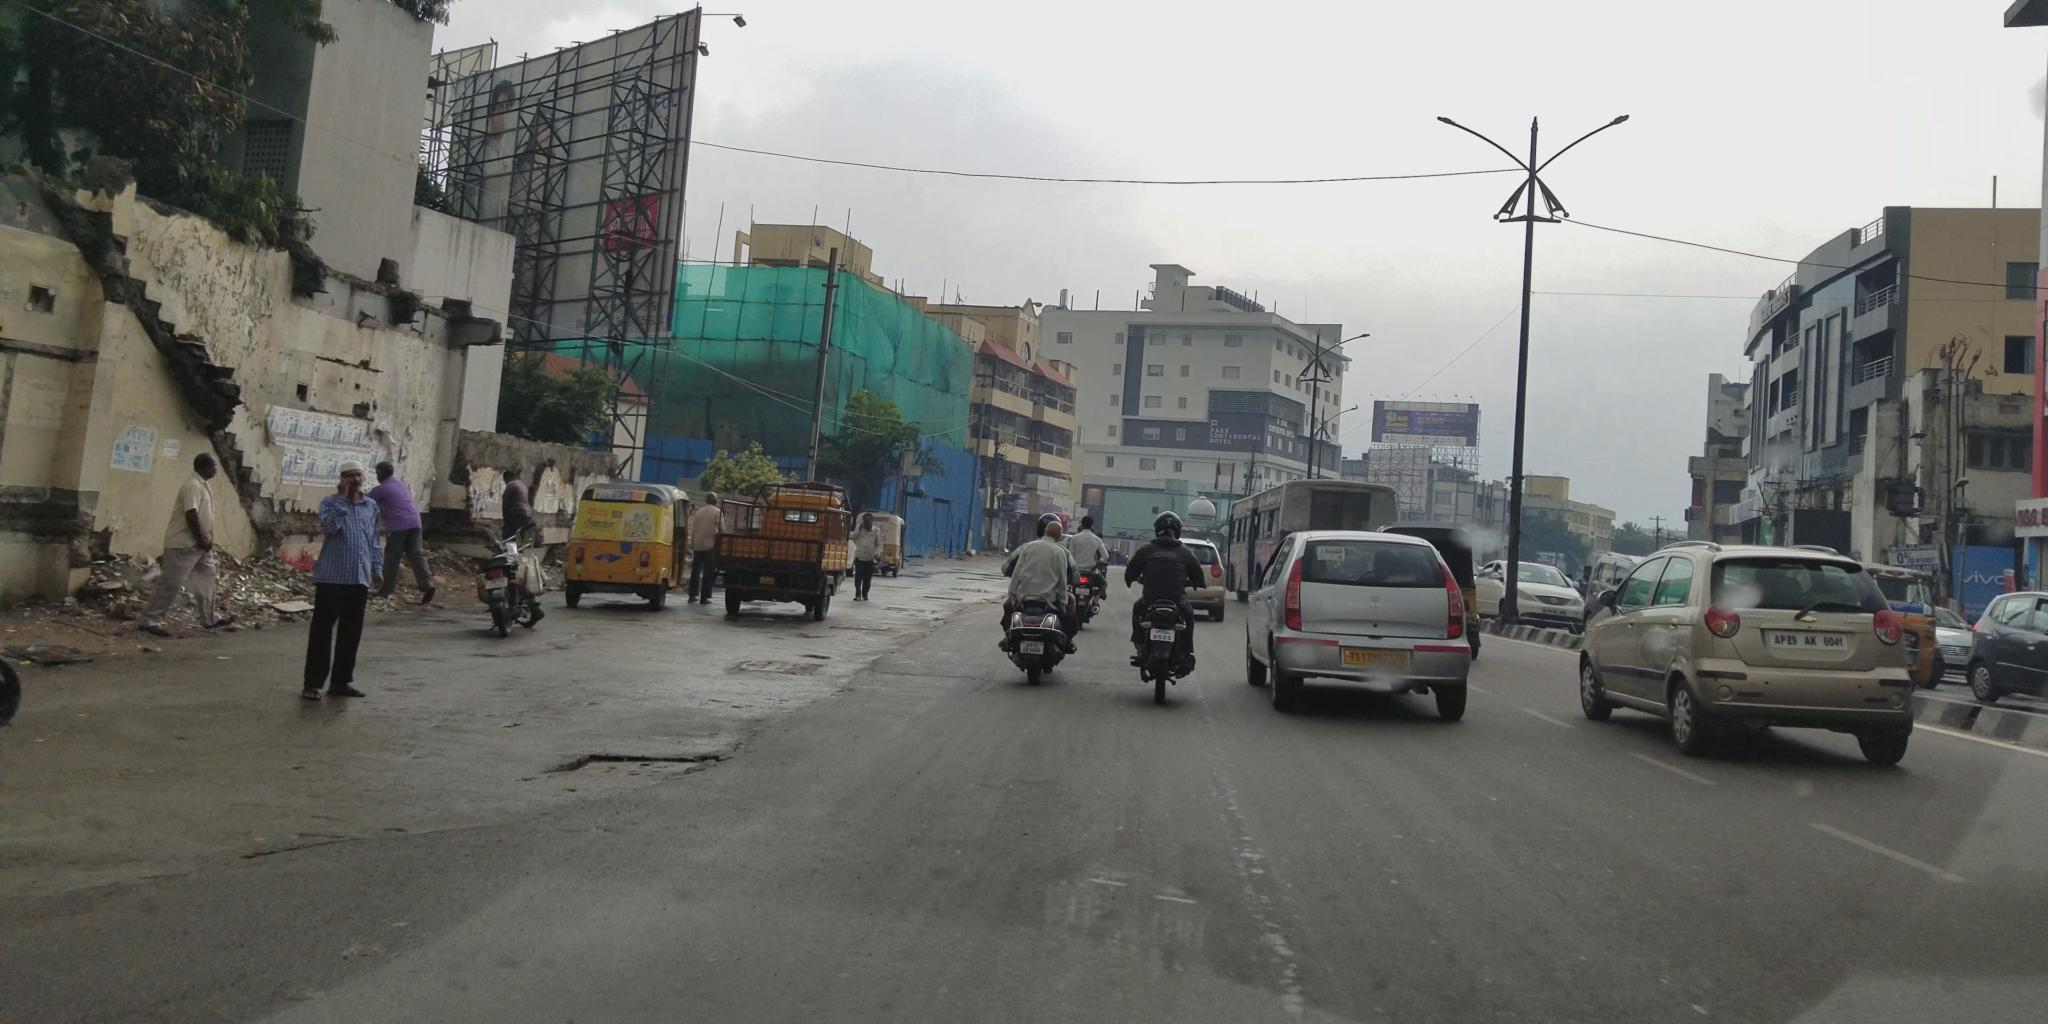off: (0, 0, 2048, 1015)
